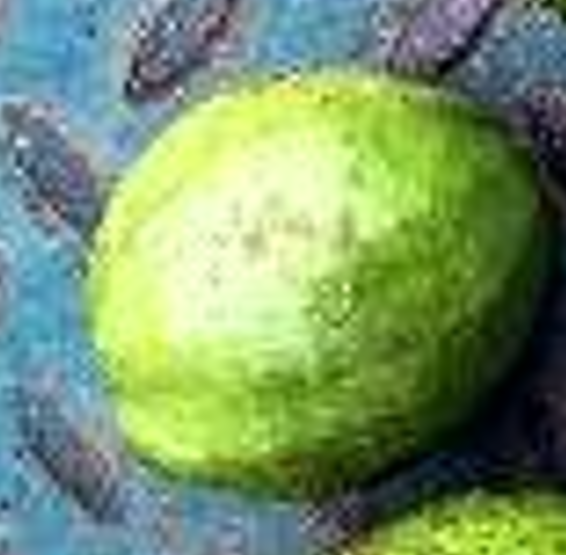guava_B: (81, 68, 549, 502)
